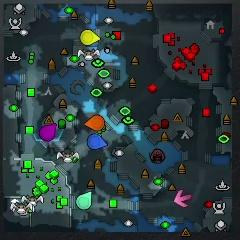p1: (88, 134, 107, 150)
p2: (76, 191, 92, 210)
p3: (39, 122, 56, 141)
p4: (80, 29, 100, 45)
p5: (85, 114, 104, 131)
x1: (173, 189, 191, 207)
